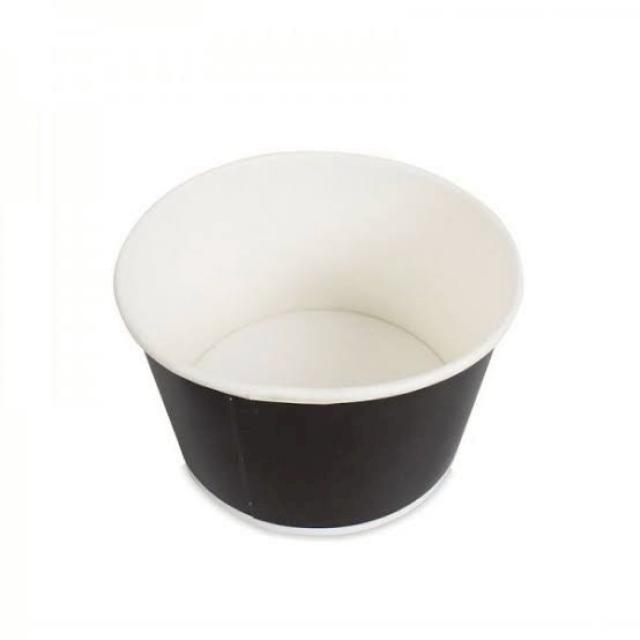plastic cup: (116, 142, 518, 528)
